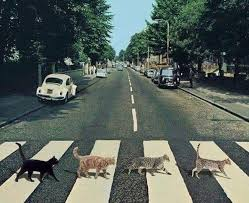cat: (14, 141, 60, 183), (189, 142, 232, 180), (71, 146, 116, 179), (125, 153, 172, 179)
